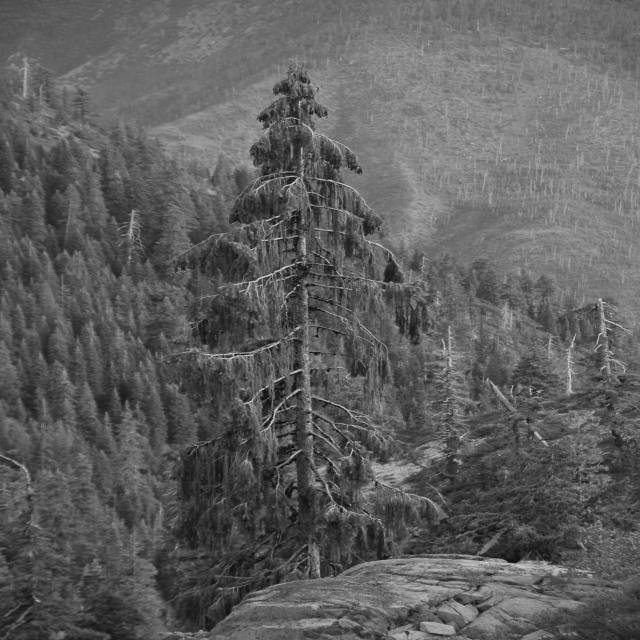Picea breweriana: (158, 51, 444, 585)
